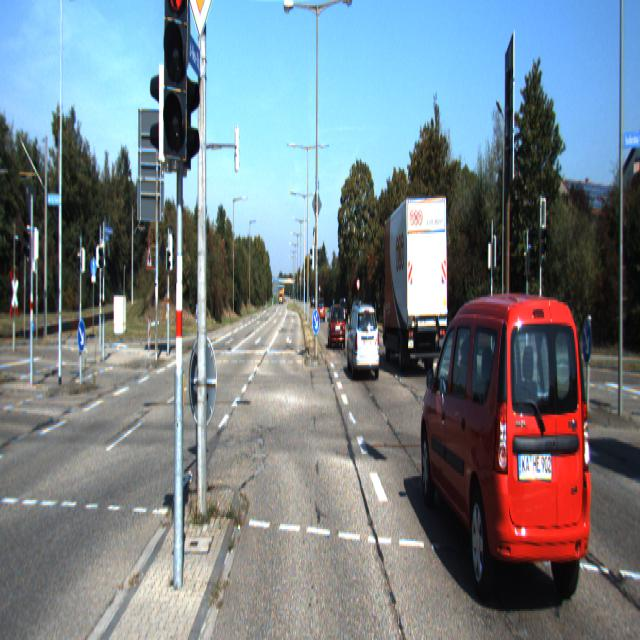Car: (419, 280, 595, 635), (380, 191, 448, 379), (346, 302, 381, 384), (465, 302, 508, 357), (328, 304, 346, 350)
